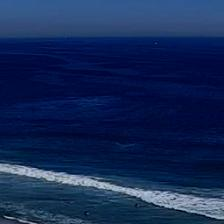surfer: (170, 197, 177, 200), (134, 203, 138, 208)
